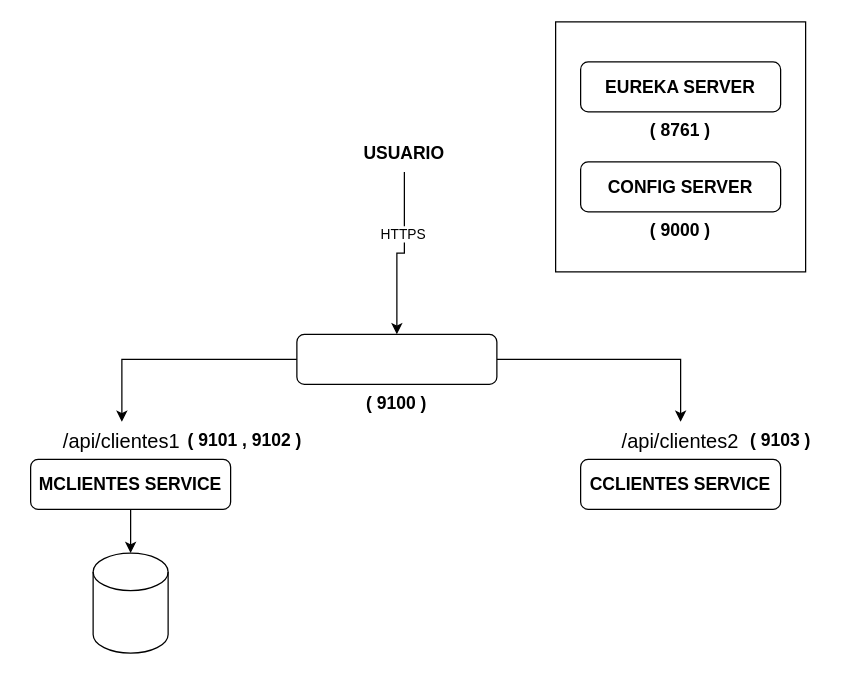
Some shapes in this 844 by 675 pixel diagram are drawn without their labels. Here are the shapes that lost their labels. From the top down, the centre of each, then its label:
At (396,358): "API GATEWAY".
At (130,602): "MongoDB".
